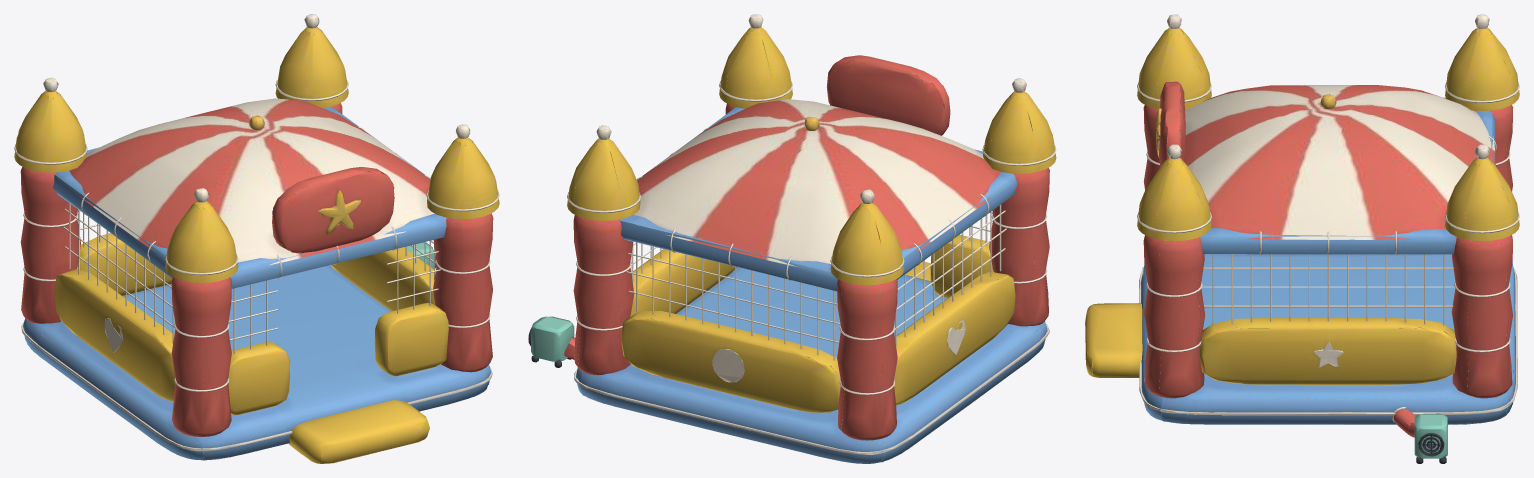
Rendered from castillo_hinchable.glb.
3 renders of one model, left to right at view 1: azimuth 30°, elevation 25°; view 2: azimuth 150°, elevation 25°; view 3: azimuth 270°, elevation 25°, orthographic. The views are drawn at different scales.
Visible parts, largest first — view 1: bounce-house_body; view 2: bounce-house_body; view 3: bounce-house_body.
Part boxes in pixels (x1,y1,x2,y2): bounce-house_body: (14,14,499,463); bounce-house_body: (528,14,1056,463); bounce-house_body: (1085,14,1519,463).
Size of the model in its own units: 5.1 by 3.39 by 4.86.
1 material, 1 textured.
